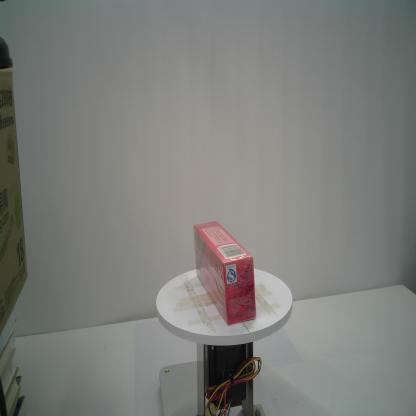Instant Drink: (192, 219, 257, 327)
